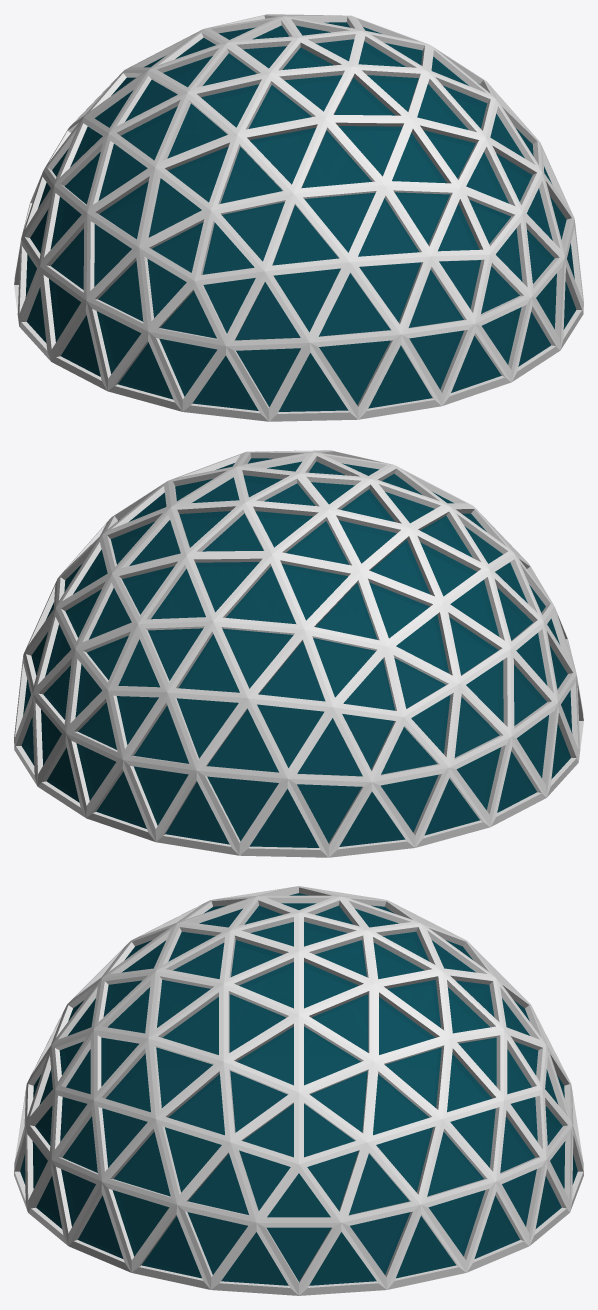
The model's file is skylight_01.fbx.
3 renders of one model, top to bottom at view 1: azimuth 30°, elevation 25°; view 2: azimuth 150°, elevation 25°; view 3: azimuth 270°, elevation 25°, orthographic.
Parts seen in each view (by area): view 1: skylight_glass, skylight_01; view 2: skylight_glass, skylight_01; view 3: skylight_01, skylight_glass.
Boxes of the visible parts, x1,y1,x2,y2 form: skylight_glass: (25,22,576,411); skylight_01: (14,14,583,421); skylight_glass: (21,458,572,847); skylight_01: (14,450,583,857); skylight_01: (14,886,583,1295); skylight_glass: (20,893,577,1285).
Bounding box in the file's own units: 656 × 334 × 656.
